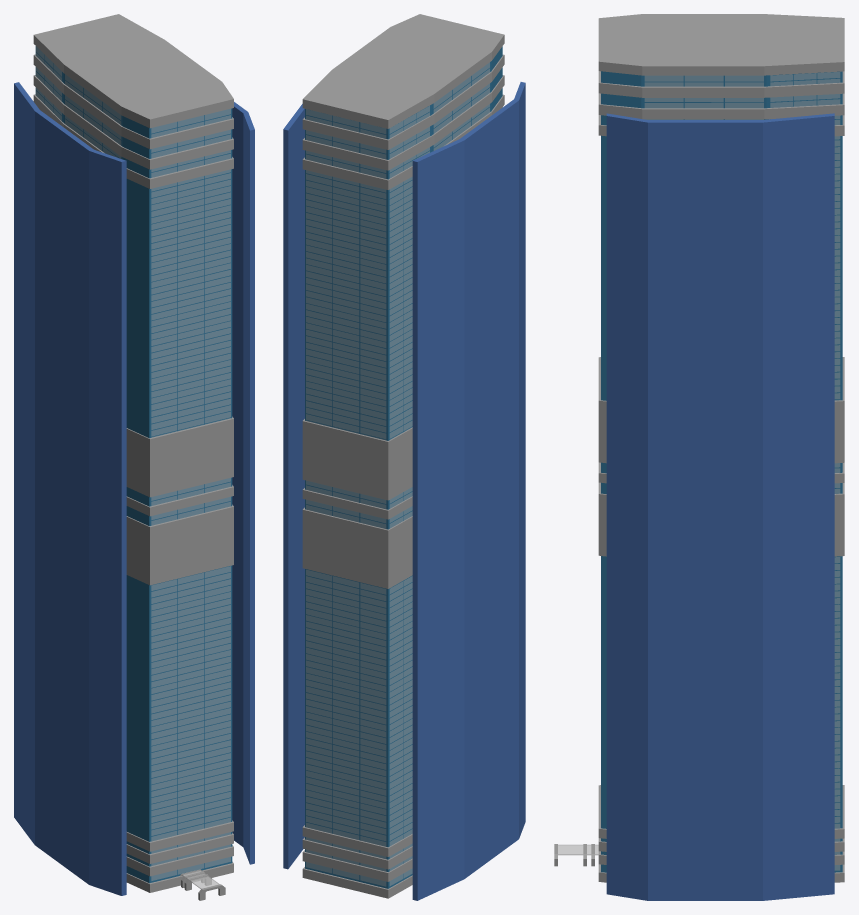
Rendered from predio.obj.
3 renders of one model, left to right at view 1: azimuth 30°, elevation 25°; view 2: azimuth 150°, elevation 25°; view 3: azimuth 270°, elevation 25°, orthographic. The views are drawn at different scales.
Parts seen in each view (by area): view 1: Cube.002, Cube, Cube.009_Cube.010, Cube.001_Cube.016, Cube.019_Cube.022, Cube.015_Cube.018, Cube.017_Cube.020, Cube.016_Cube.019, Cube.018_Cube.021, Cube.011_Cube.012, Cube.023_Cube.026, Cube.021_Cube.024 (+4 smaller); view 2: Cube.002, Cube, Cube.012_Cube.013, Cube.013_Cube.014, Cube.001_Cube.016, Cube.015_Cube.018, Cube.019_Cube.022, Cube.016_Cube.019, Cube.017_Cube.020, Cube.011_Cube.012, Cube.018_Cube.021, Cube.008_Cube.017 (+4 smaller); view 3: Cube.002, Cube.001_Cube.016, Cube, Cube.014_Cube.015, Cube.016_Cube.019, Cube.017_Cube.020, Cube.010_Cube.011, Cube.019_Cube.022, Cube.015_Cube.018.
Boxes of the visible parts, x1,y1,x2,y2 form: Cube.002: (14,82,254,895); Cube: (35,46,232,883); Cube.009_Cube.010: (151,108,230,880); Cube.001_Cube.016: (33,14,233,128); Cube.019_Cube.022: (126,416,233,497); Cube.015_Cube.018: (126,504,233,585); Cube.017_Cube.020: (33,75,233,169); Cube.016_Cube.019: (33,54,233,149); Cube.018_Cube.021: (33,94,233,188); Cube.011_Cube.012: (65,74,121,158); Cube.023_Cube.026: (126,485,233,516); Cube.021_Cube.024: (126,832,233,863); Cube.002: (283,82,525,900); Cube: (305,46,502,888); Cube.012_Cube.013: (306,109,386,886); Cube.013_Cube.014: (389,106,429,885); Cube.001_Cube.016: (302,14,504,128); Cube.015_Cube.018: (302,507,412,588); Cube.019_Cube.022: (302,419,412,500); Cube.016_Cube.019: (302,54,504,149); Cube.017_Cube.020: (302,75,504,170); Cube.011_Cube.012: (433,62,489,150); Cube.018_Cube.021: (302,94,504,189); Cube.008_Cube.017: (302,867,412,898); Cube.002: (606,113,834,900); Cube.001_Cube.016: (598,14,844,75); Cube: (601,71,842,872); Cube.014_Cube.015: (770,72,840,870); Cube.016_Cube.019: (598,71,844,97); Cube.017_Cube.020: (598,93,844,119); Cube.010_Cube.011: (644,75,763,119); Cube.019_Cube.022: (598,357,844,463); Cube.015_Cube.018: (598,482,844,556).
Size of the model in its own units: 57.8 by 268 by 86.04.
